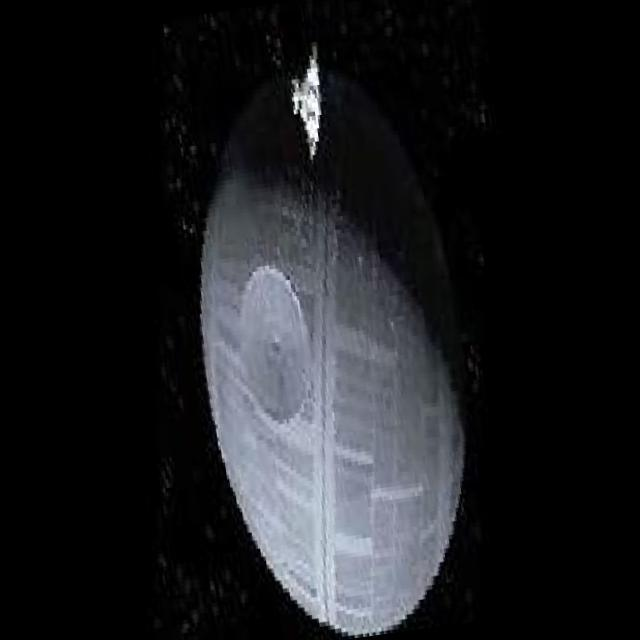Death Star: (155, 30, 503, 640)
